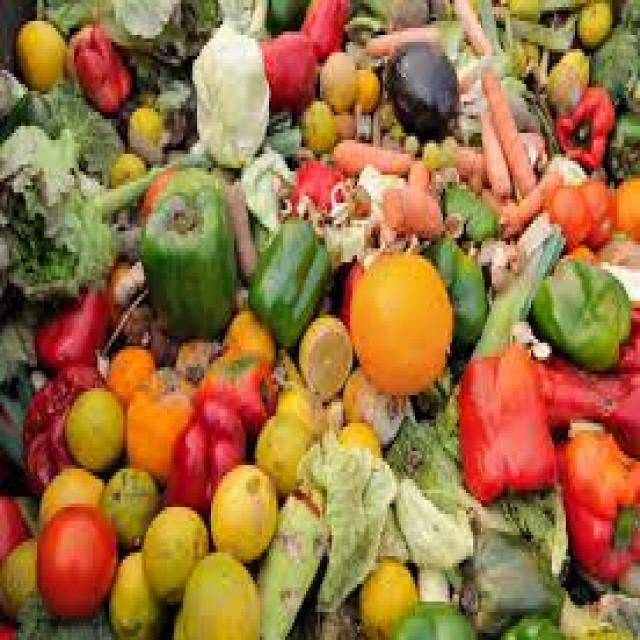organic waste: (0, 0, 638, 637), (443, 206, 561, 441), (434, 381, 566, 577), (0, 94, 121, 287), (0, 119, 109, 294), (297, 423, 396, 609), (348, 245, 450, 388), (552, 423, 638, 584), (457, 350, 552, 490), (139, 189, 232, 329), (20, 356, 114, 489), (526, 252, 626, 371), (188, 14, 266, 164), (457, 524, 561, 636), (383, 406, 473, 518), (248, 210, 329, 332), (35, 500, 118, 616), (257, 486, 320, 637), (123, 363, 199, 482), (469, 486, 568, 574), (167, 398, 246, 504), (382, 416, 462, 514), (30, 276, 114, 367), (396, 468, 471, 566), (475, 66, 531, 196), (591, 297, 638, 451), (93, 0, 220, 56), (478, 63, 533, 189), (141, 500, 211, 598), (422, 231, 485, 339), (181, 549, 257, 637), (206, 462, 274, 560), (383, 35, 452, 129), (98, 140, 206, 199), (195, 349, 276, 426), (100, 458, 162, 553), (341, 364, 413, 441), (107, 549, 169, 637), (554, 84, 615, 168), (65, 381, 121, 472), (252, 409, 318, 486), (72, 21, 130, 108), (355, 553, 417, 633), (536, 346, 598, 423), (16, 588, 114, 636), (297, 308, 350, 395), (556, 580, 638, 636), (499, 161, 561, 234), (586, 21, 638, 108), (0, 66, 74, 126), (260, 28, 313, 108), (470, 122, 542, 178), (37, 462, 102, 521), (526, 10, 568, 98), (332, 133, 404, 182), (383, 598, 473, 637), (14, 17, 65, 84), (492, 7, 572, 49), (0, 367, 32, 472), (364, 21, 459, 56), (220, 301, 276, 360), (220, 182, 255, 276), (0, 532, 37, 619), (311, 199, 371, 252), (478, 98, 512, 189), (378, 182, 441, 231), (306, 584, 364, 637), (274, 371, 320, 434), (151, 70, 192, 140), (547, 178, 589, 245), (0, 490, 44, 552), (172, 332, 222, 385), (542, 45, 586, 105), (0, 300, 37, 370), (296, 0, 345, 52), (34, 0, 106, 35), (239, 105, 297, 147), (605, 108, 638, 178), (580, 178, 614, 245), (318, 46, 354, 108), (454, 49, 512, 87), (336, 252, 364, 329), (475, 231, 517, 280), (376, 496, 408, 560), (357, 161, 404, 203), (366, 0, 428, 31), (494, 605, 552, 637), (216, 0, 269, 35), (104, 256, 137, 312), (125, 101, 165, 147), (612, 172, 638, 242), (302, 94, 332, 154), (452, 0, 487, 49), (410, 560, 450, 602), (137, 315, 169, 367), (345, 0, 392, 35), (600, 259, 638, 301), (125, 49, 160, 94), (332, 420, 378, 454), (336, 255, 362, 315), (575, 0, 610, 42), (109, 224, 148, 259), (591, 235, 638, 262), (274, 342, 299, 392), (441, 178, 473, 217), (264, 0, 308, 28), (462, 200, 498, 234), (120, 308, 156, 342), (452, 144, 487, 178), (106, 147, 144, 178), (512, 35, 540, 77), (344, 178, 374, 217), (352, 63, 378, 108), (111, 259, 144, 294), (543, 150, 584, 178), (343, 38, 376, 70), (294, 472, 320, 511), (498, 74, 528, 102), (320, 392, 341, 430), (510, 105, 543, 129), (438, 126, 459, 161), (452, 84, 478, 112), (452, 112, 478, 140), (352, 105, 371, 143), (619, 556, 638, 591), (510, 311, 536, 336), (376, 94, 394, 130), (406, 154, 426, 185), (496, 0, 584, 7), (109, 206, 137, 228), (507, 0, 542, 17), (422, 133, 441, 164), (332, 108, 352, 136), (616, 0, 637, 24), (464, 231, 482, 259), (443, 210, 461, 238), (526, 336, 550, 356), (172, 598, 183, 637), (584, 161, 603, 182), (566, 238, 589, 255), (0, 616, 19, 636), (385, 112, 401, 133), (402, 130, 418, 150), (28, 364, 46, 381), (429, 0, 450, 14)
